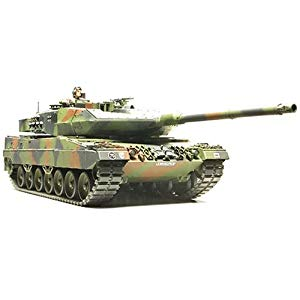Battle Tank: (3, 99, 297, 206)
